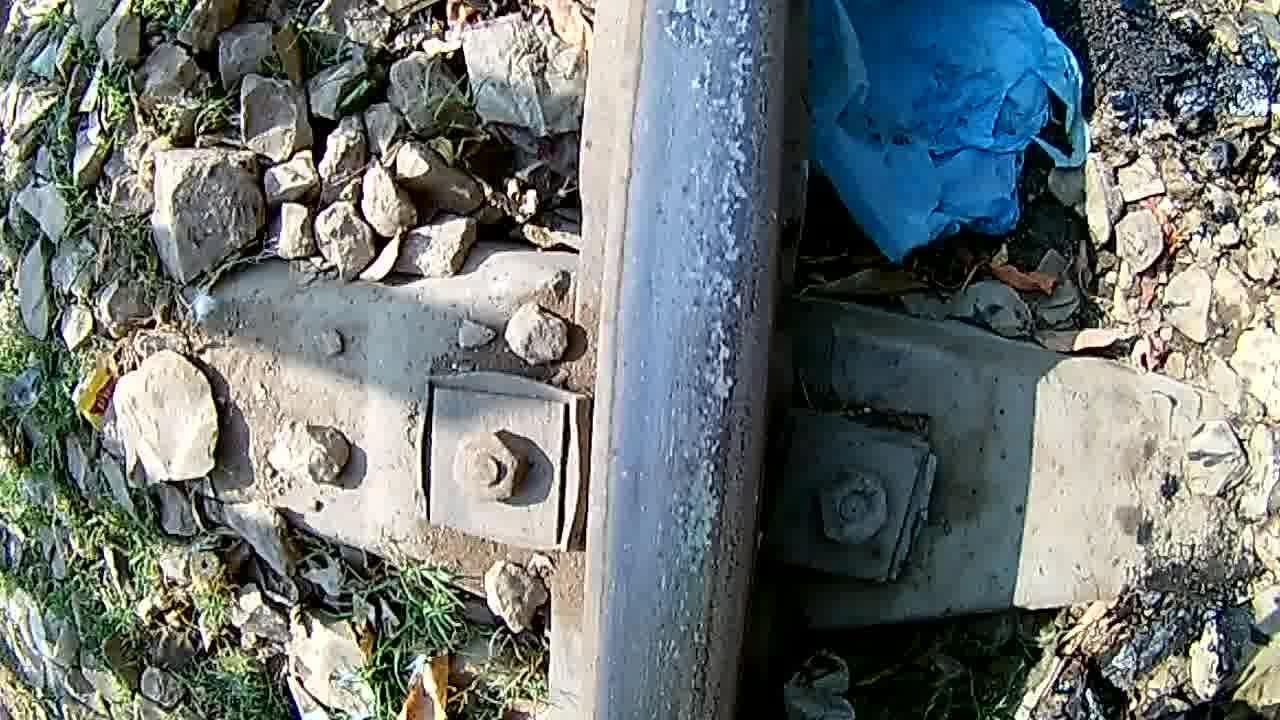crack: (646, 0, 772, 620)
